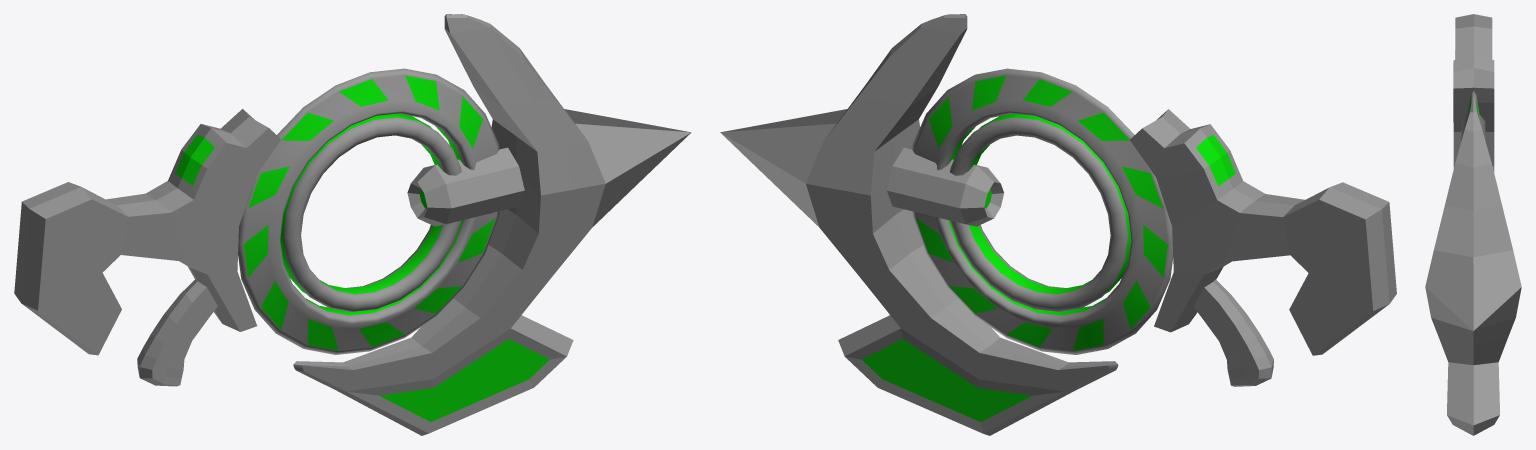
File: AS_Arma.FBX
3 views of the same model, side by side, from view 1: azimuth 30°, elevation 25°; view 2: azimuth 150°, elevation 25°; view 3: azimuth 270°, elevation 25° (orthographic). The views are drawn at different scales.
Parts seen in each view (by area): view 1: Canon, Mango, Anillo_Ext, Anillo_Int; view 2: Canon, Mango, Anillo_Ext, Anillo_Int; view 3: Canon, Mango, Anillo_Ext.
Part boxes in pixels (x1,y1,x2,y2): Canon: [293, 14, 691, 435]; Mango: [14, 109, 281, 386]; Anillo_Ext: [238, 68, 524, 354]; Anillo_Int: [280, 113, 461, 311]; Canon: [720, 14, 1118, 435]; Mango: [1130, 109, 1396, 386]; Anillo_Ext: [887, 68, 1173, 354]; Anillo_Int: [950, 113, 1131, 311]; Canon: [1425, 99, 1521, 435]; Mango: [1453, 14, 1494, 172]; Anillo_Ext: [1461, 91, 1485, 139].
Bounding box in the file's own units: 54.78 × 32.5 × 8.79.
